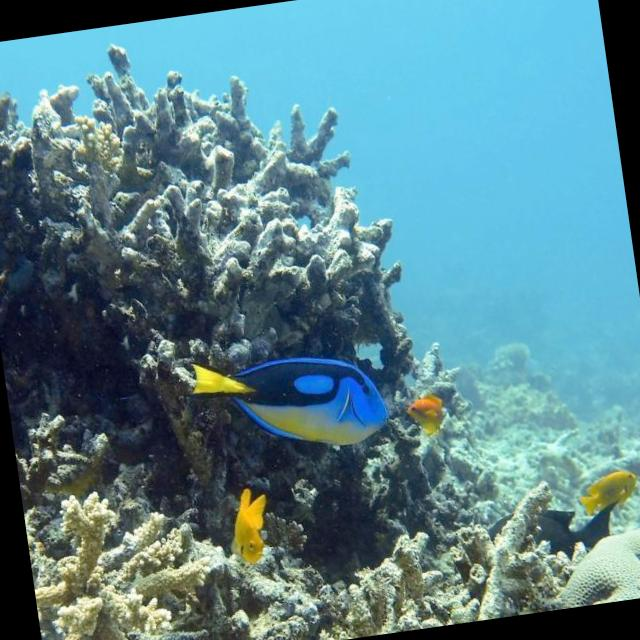TangFish: (186, 330, 399, 471)
